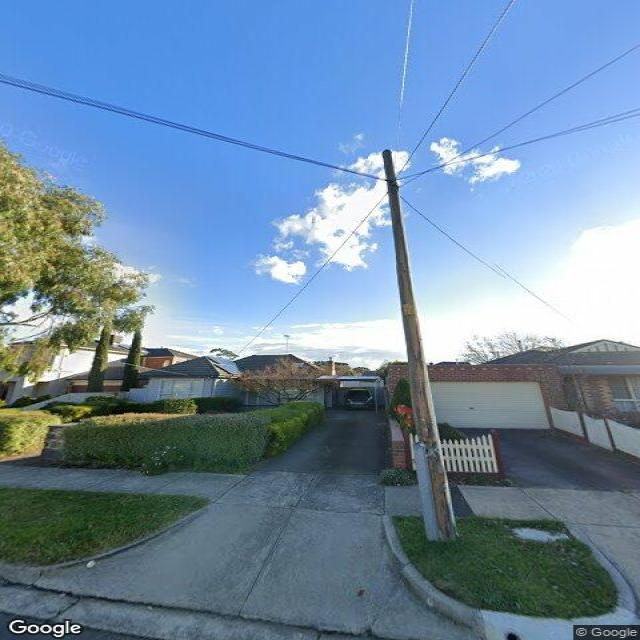timber-pole: (381, 148, 459, 544)
